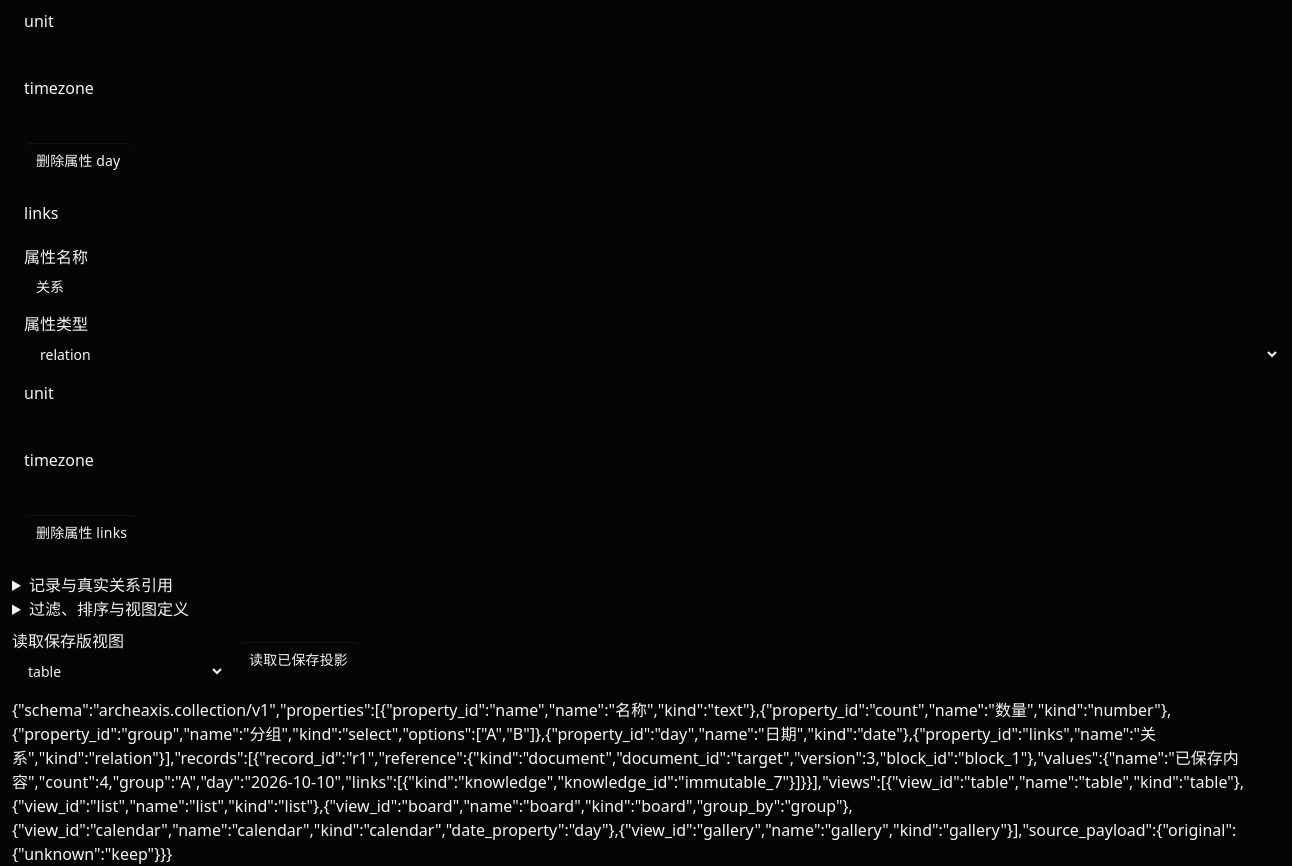
query failure is an alert, never empty successful result
(page scrolled)
Click the button "读取已保存投影": {"x": 298, "y": 659} 237,642 -> 360,676
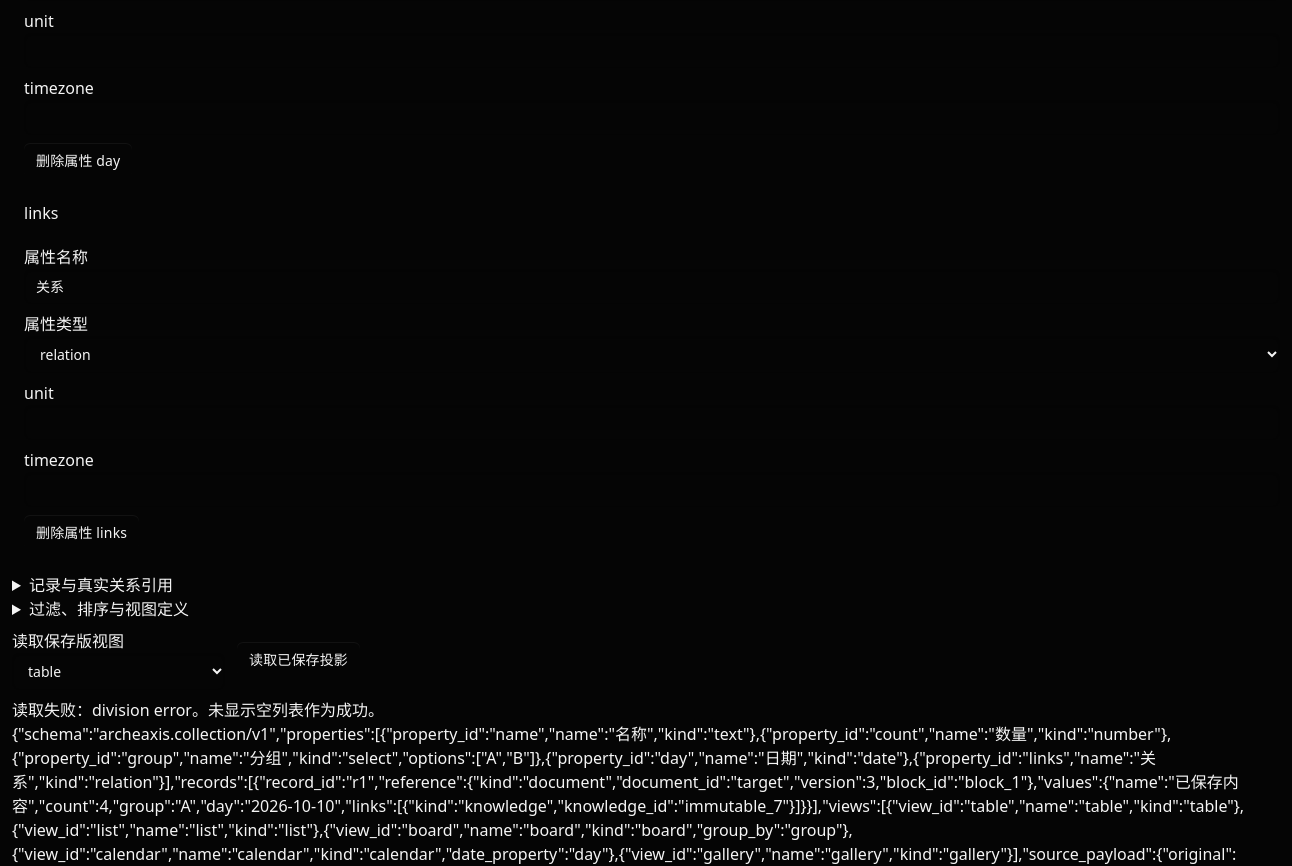
Expected: the message shows "未显示空列表作为成功", 12,698 -> 384,720
